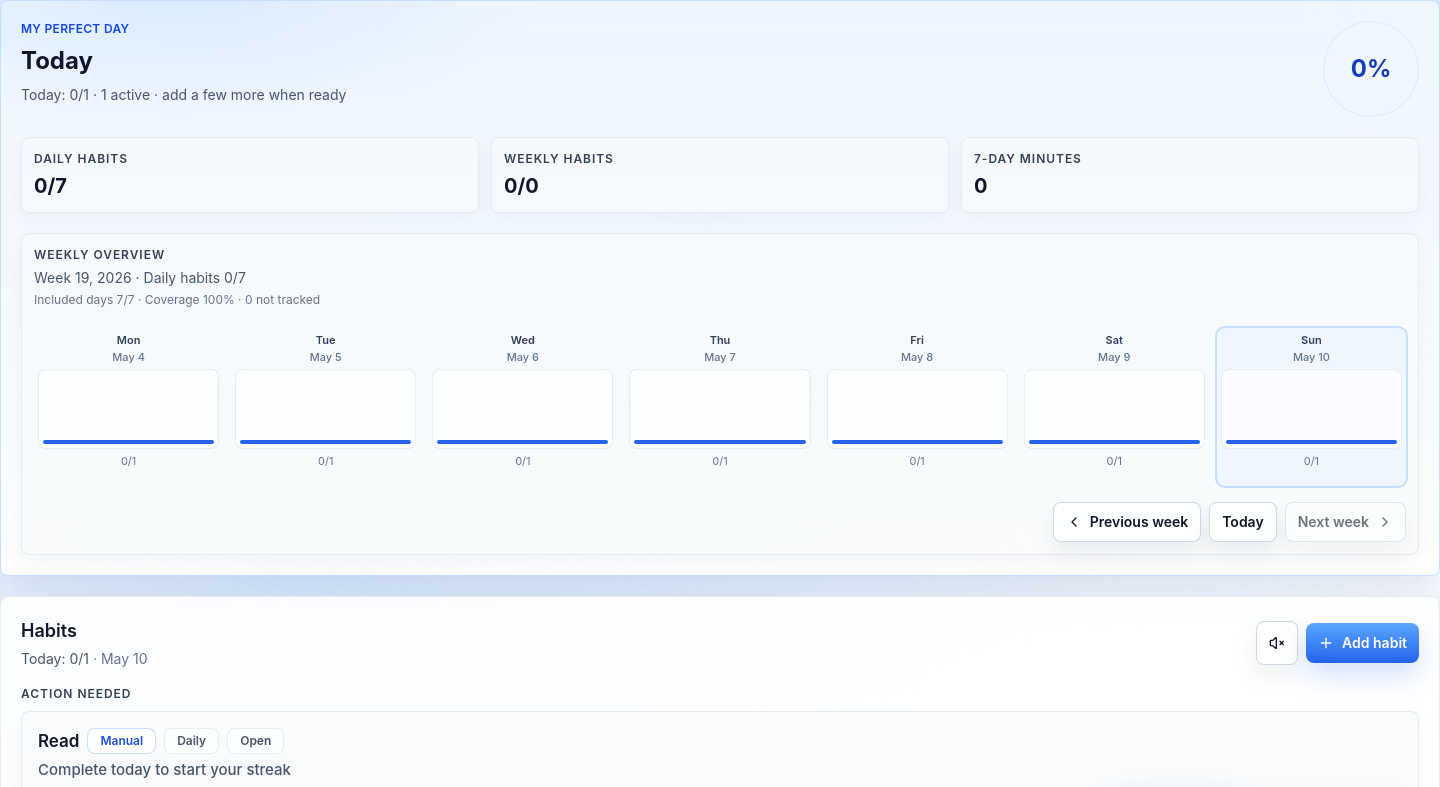
Test case: HabitPerfectDayHub › keeps completion saves non-blocking when browser audio is rejected
What coordinates should you click on to do the following:
click the button named "Sound off"
I would click on:
 (1277, 642)
Its box is [1256, 620, 1298, 664].
(page scrolled)
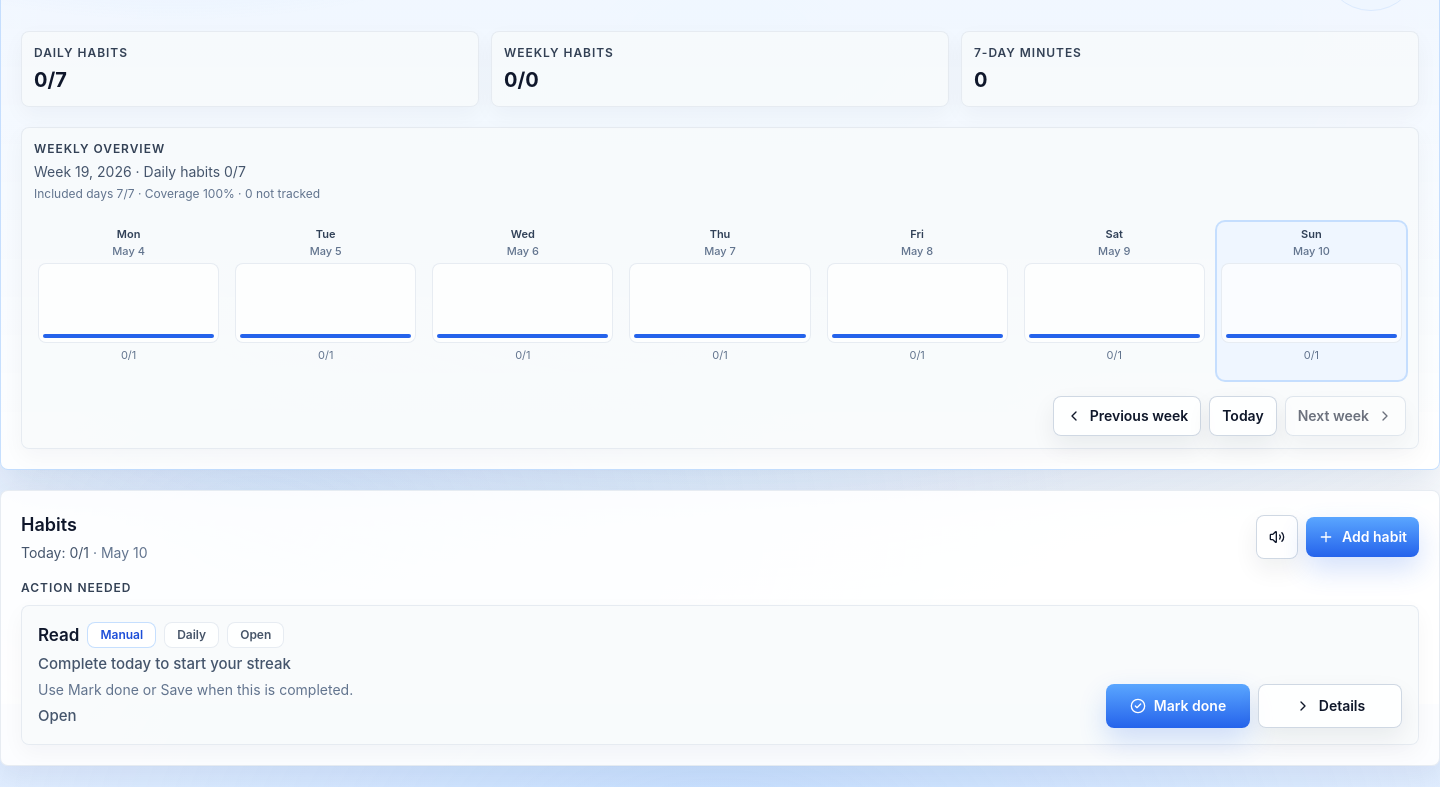
What coordinates should you click on to do the following:
click the button "Mark done"
I would click on:
 (1178, 706)
Its box is [1106, 684, 1250, 728].
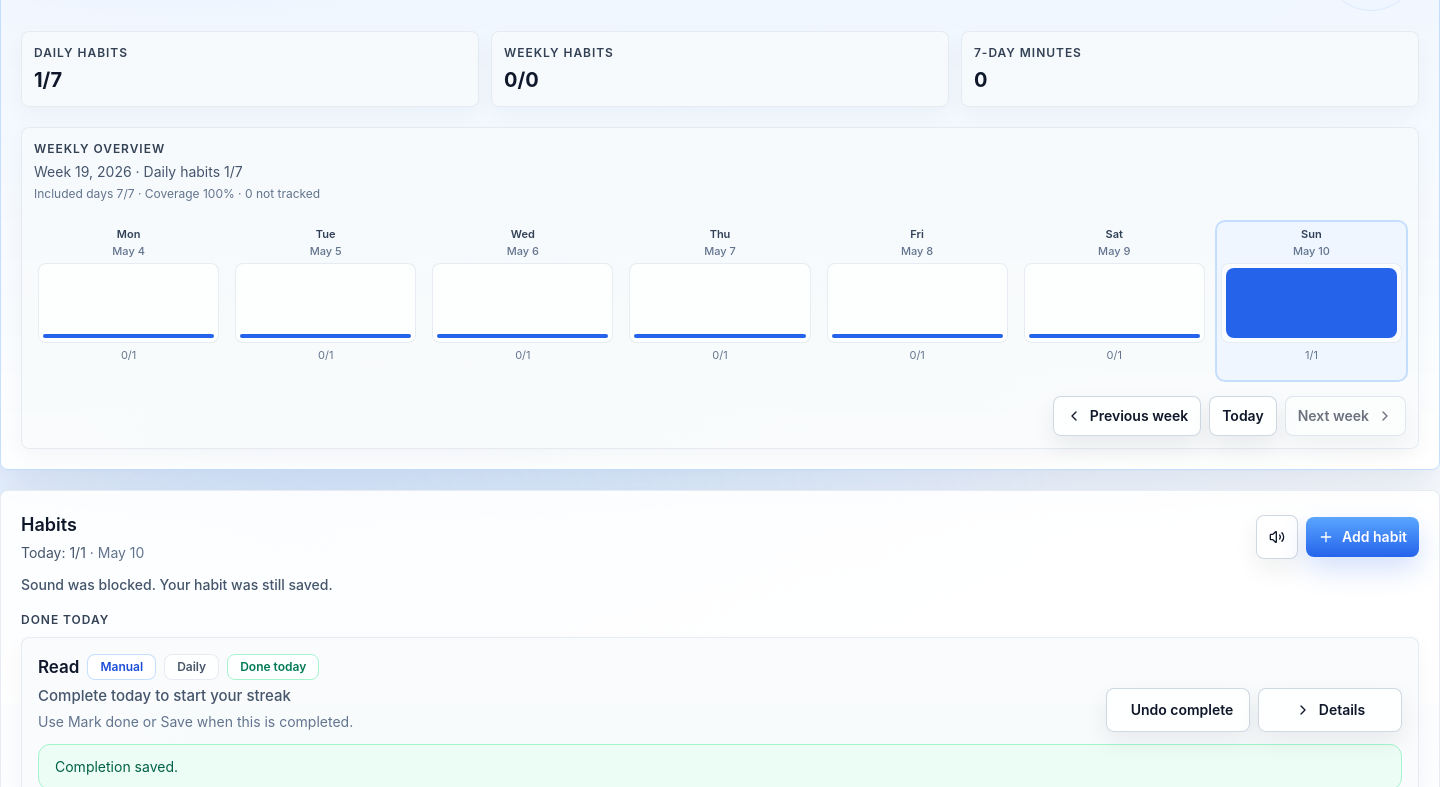
Now the text "Completion saved." is shown, box [55, 758, 178, 774]
